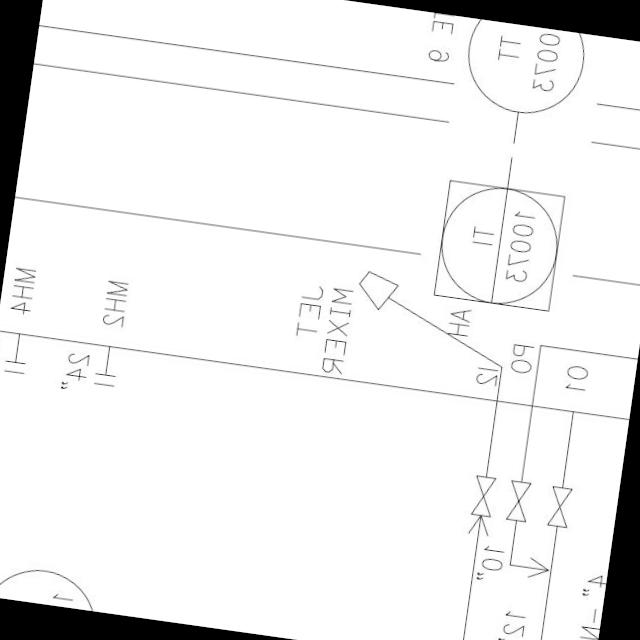GV: (499, 473, 535, 528), (540, 480, 574, 535), (464, 468, 498, 522)
SP: (351, 264, 404, 320)
